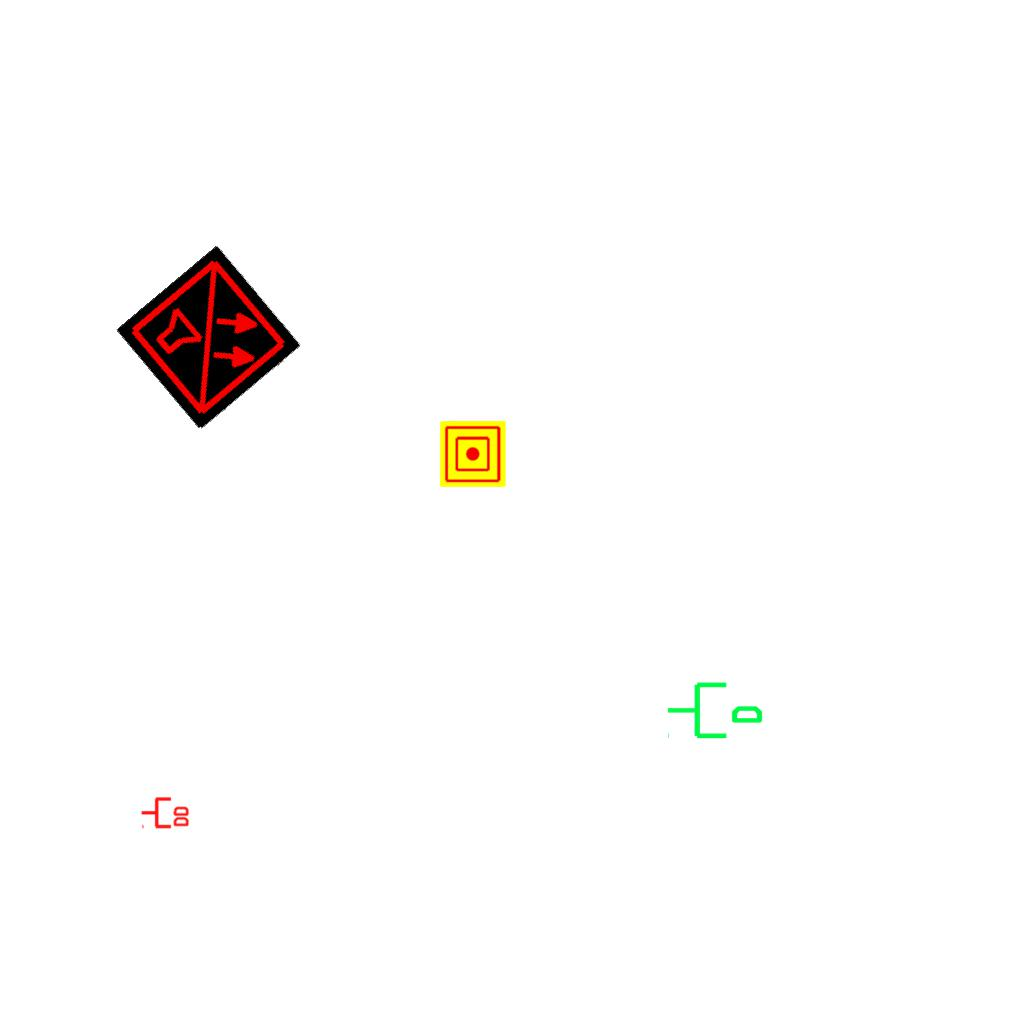Datenanschluss_einfach: (665, 674, 765, 743)
Datenanschluss_zweifach: (140, 795, 191, 829)
NAM-Nichtautomatischer_Melder: (440, 421, 506, 487)
OKW_Multisensormelder_(Kombination_optischer_Rauch-Kahlenmonoxid_Waerme-Melder): (116, 245, 302, 431)
